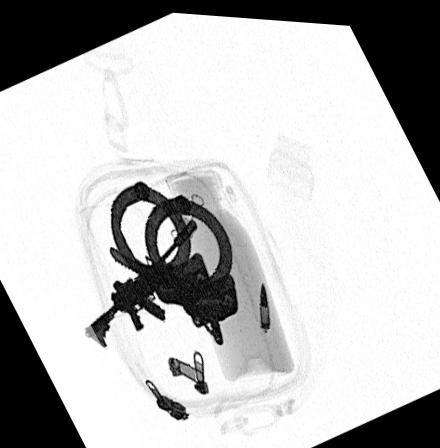Bullet: (260, 279, 269, 326)
Gun: (82, 214, 198, 348)
HandCuffs: (103, 178, 240, 343)
